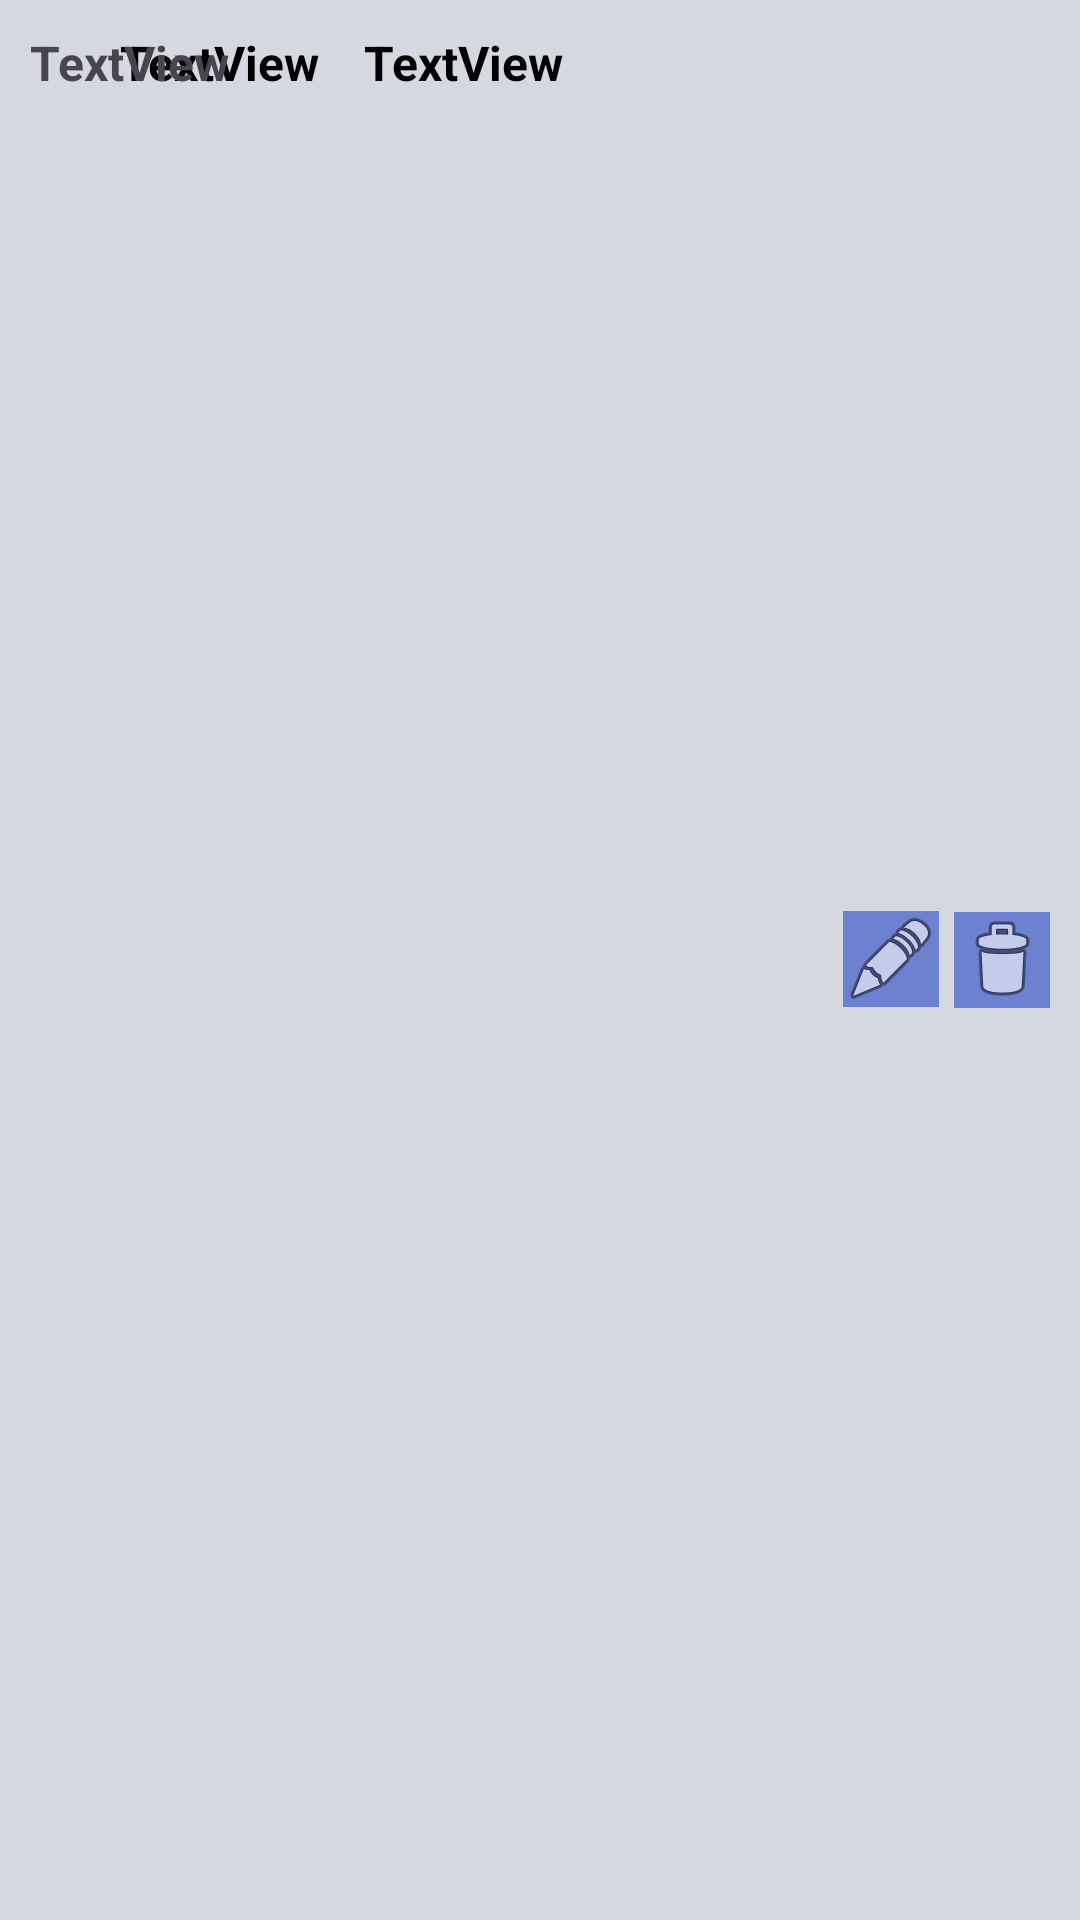

Icons on this 1080w x 1920h Android screen, each with its box as (x1, y1, x2, y2):
delete: (954, 912, 1050, 1008)
edit: (843, 911, 939, 1007)
